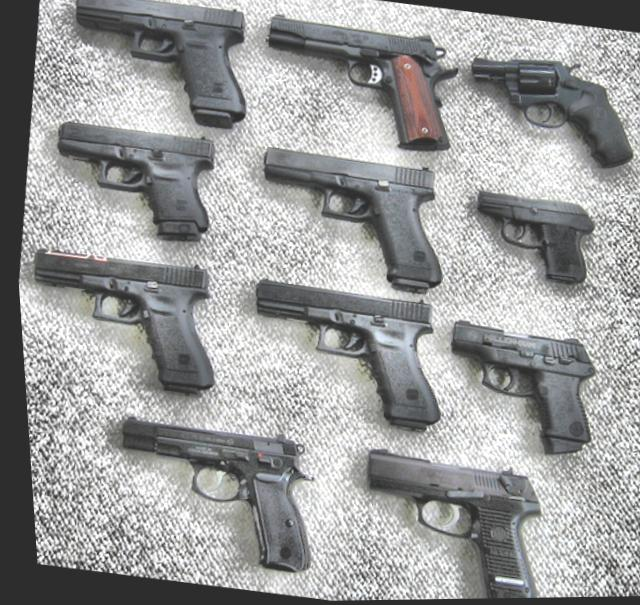pistol: (93, 410, 320, 579), (234, 275, 448, 436), (13, 238, 223, 400), (336, 443, 546, 601), (431, 316, 604, 463)
